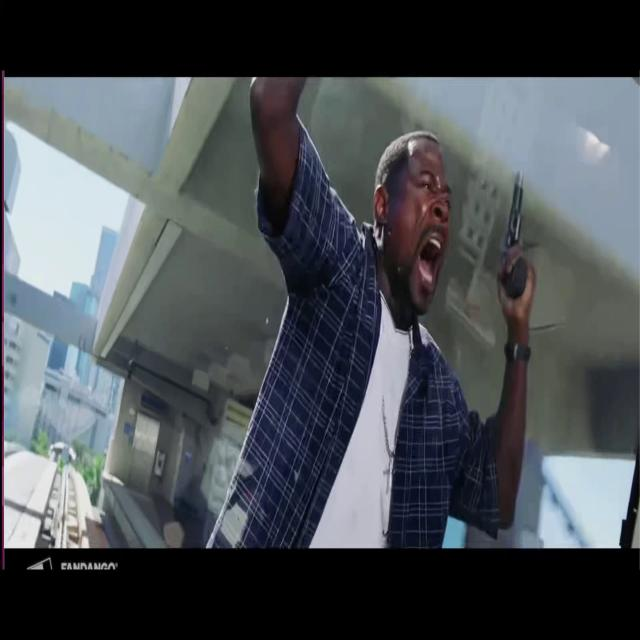weapons: (489, 150, 538, 314)
